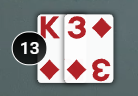3: (62, 14, 89, 42)
k: (36, 13, 63, 43)
